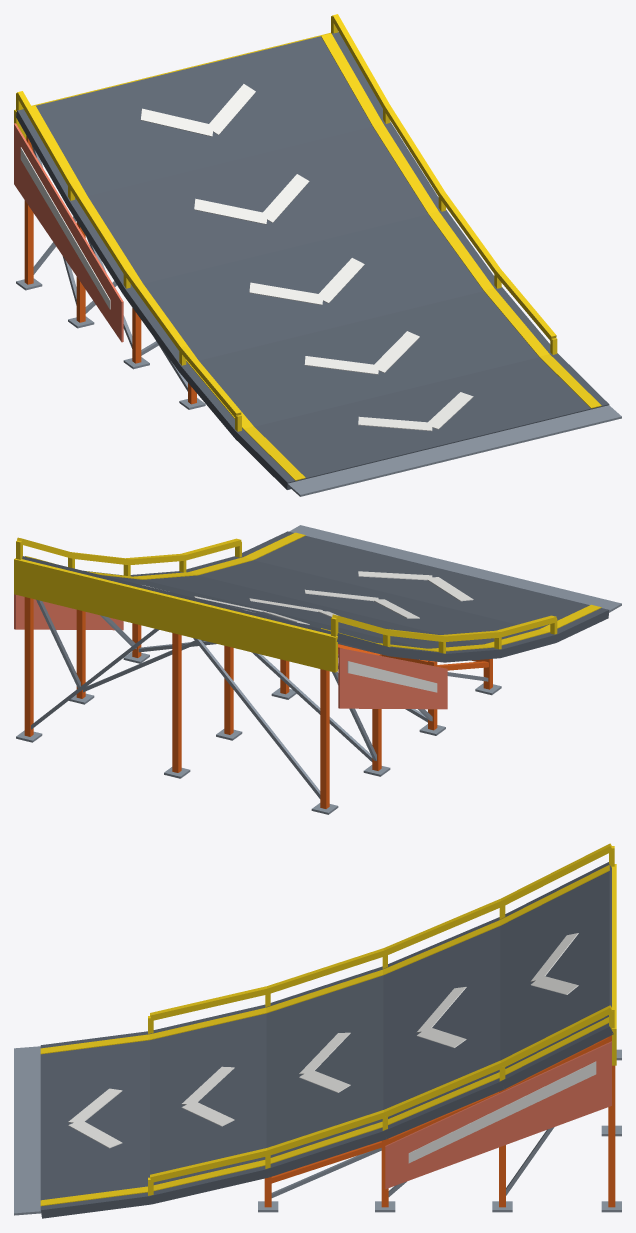
Rendered from stunt_ramp_big.glb.
3 renders of one model, top to bottom at view 1: azimuth 30°, elevation 25°; view 2: azimuth 150°, elevation 25°; view 3: azimuth 270°, elevation 25°, orthographic. The views are drawn at different scales.
Visible parts, largest first — view 1: Ramp; view 2: Ramp; view 3: Ramp.
Boxes of the visible parts, bbox=[...] form: Ramp: bbox=[14, 14, 621, 496]; Ramp: bbox=[14, 525, 621, 814]; Ramp: bbox=[14, 843, 621, 1218].
Bounding box in the file's own units: 5.09 × 2.97 × 7.78.
